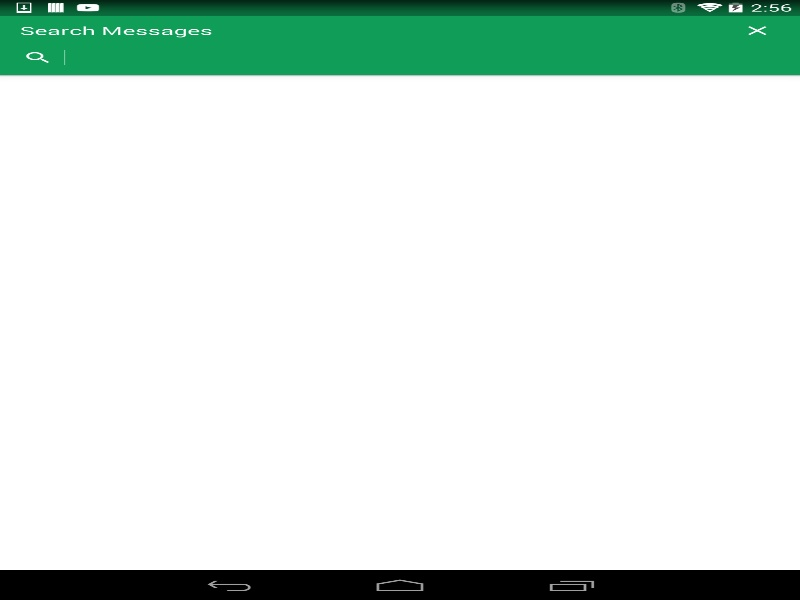Input: (0, 45, 800, 75)
